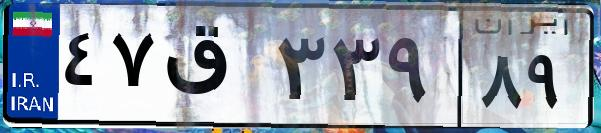3: (270, 28, 330, 110), (330, 28, 385, 110)
4: (57, 26, 110, 100)
7: (110, 28, 158, 98)
8: (475, 38, 525, 113)
9: (385, 28, 445, 110), (525, 38, 570, 115)
ق: (158, 20, 270, 120)
